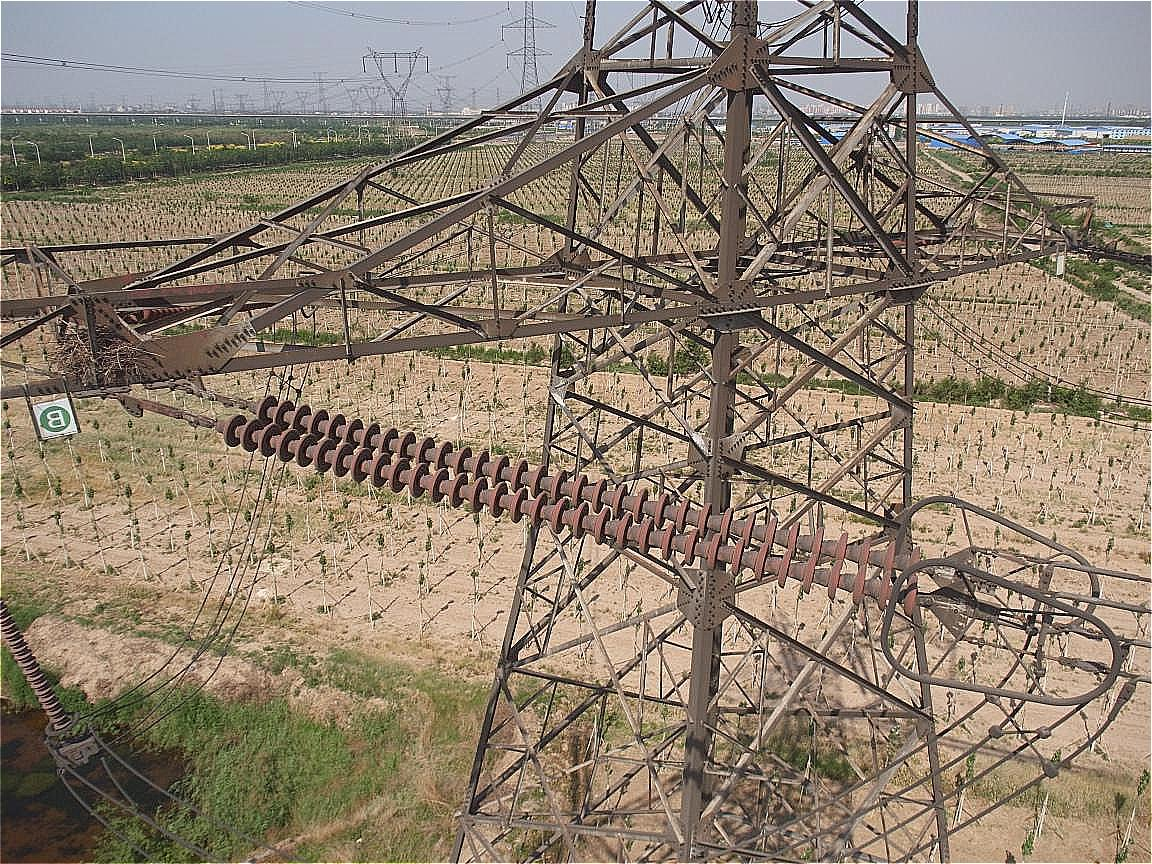insultor1: (206, 380, 942, 607)
